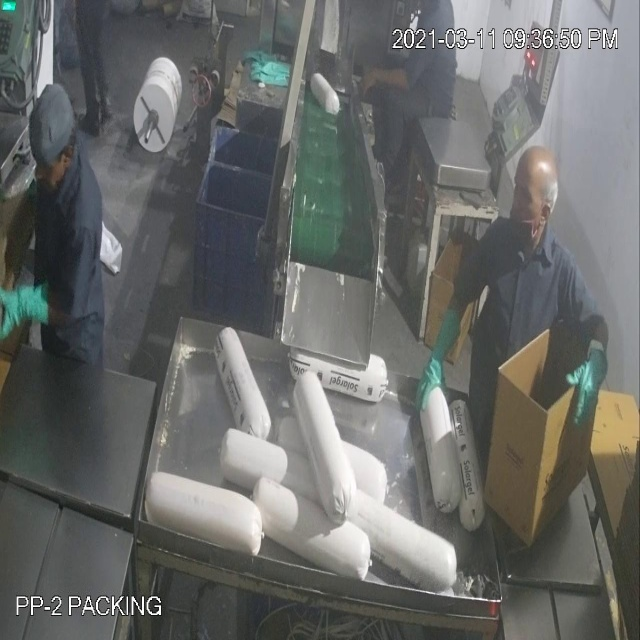Guantes: (560, 330, 613, 424)
Sin_guantes: (360, 57, 415, 107)
